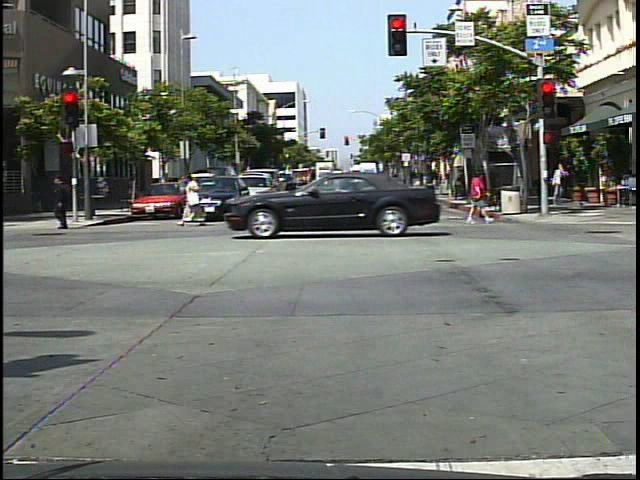person: (179, 169, 212, 228), (464, 168, 493, 228), (54, 169, 78, 235), (549, 160, 571, 210)
